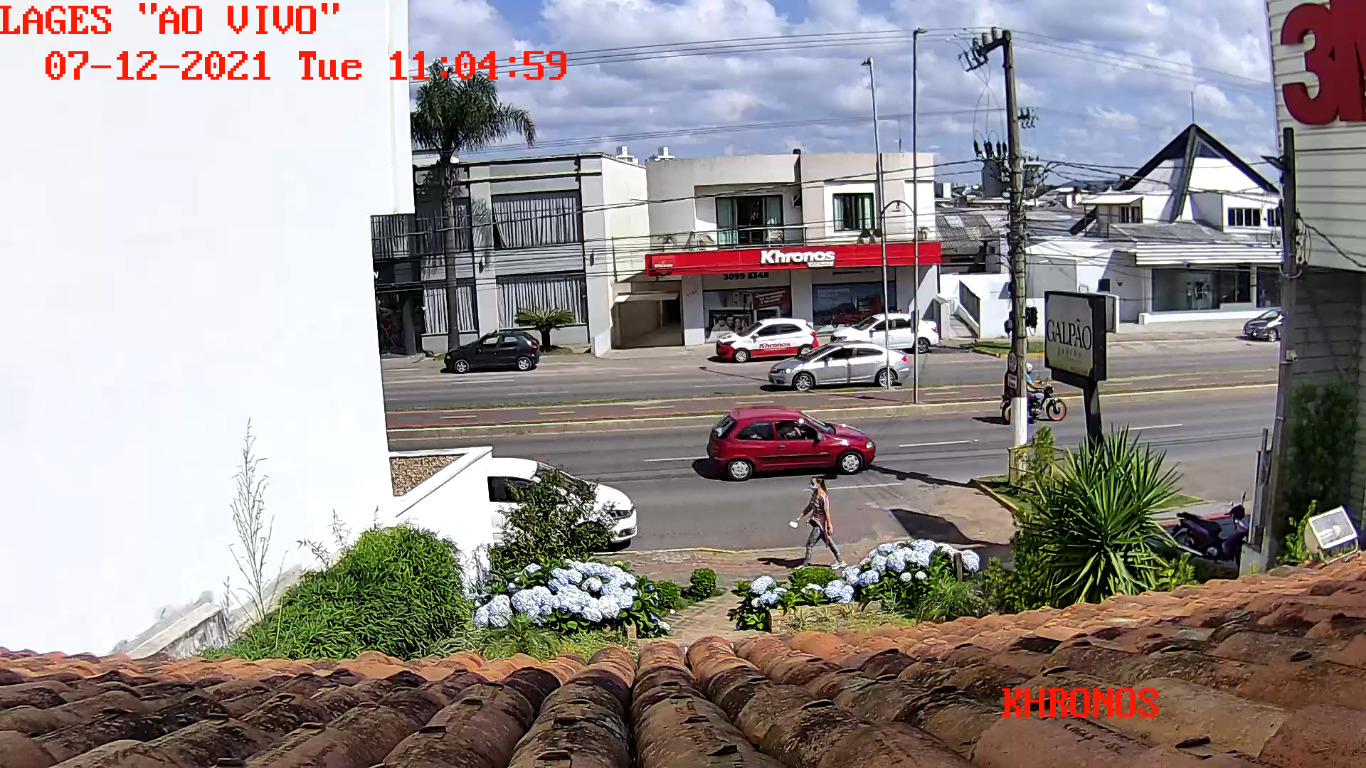car: (706, 406, 876, 481), (768, 341, 910, 390)
